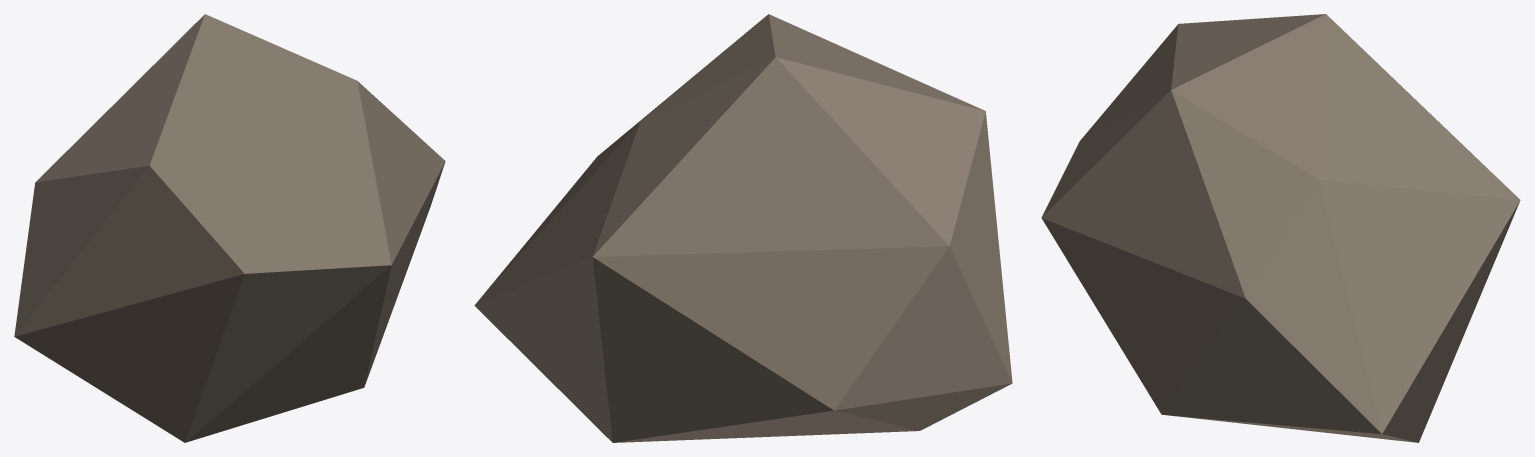
Rendered from Low Poly Weapon Pack - by Kickin It Studios.fbx_Rock.glb.
The picture shows the model from 3 angles, left to right: view 1: azimuth 30°, elevation 25°; view 2: azimuth 150°, elevation 25°; view 3: azimuth 270°, elevation 25°; orthographic projection. The views are drawn at different scales.
Visible parts, largest first — view 1: Rock; view 2: Rock; view 3: Rock.
Boxes of the visible parts, x1,y1,x2,y2 form: Rock: (14,14,445,442); Rock: (474,14,1012,442); Rock: (1041,14,1520,442).
Bounding box in the file's own units: 0.1538 × 0.1185 × 0.1313.
